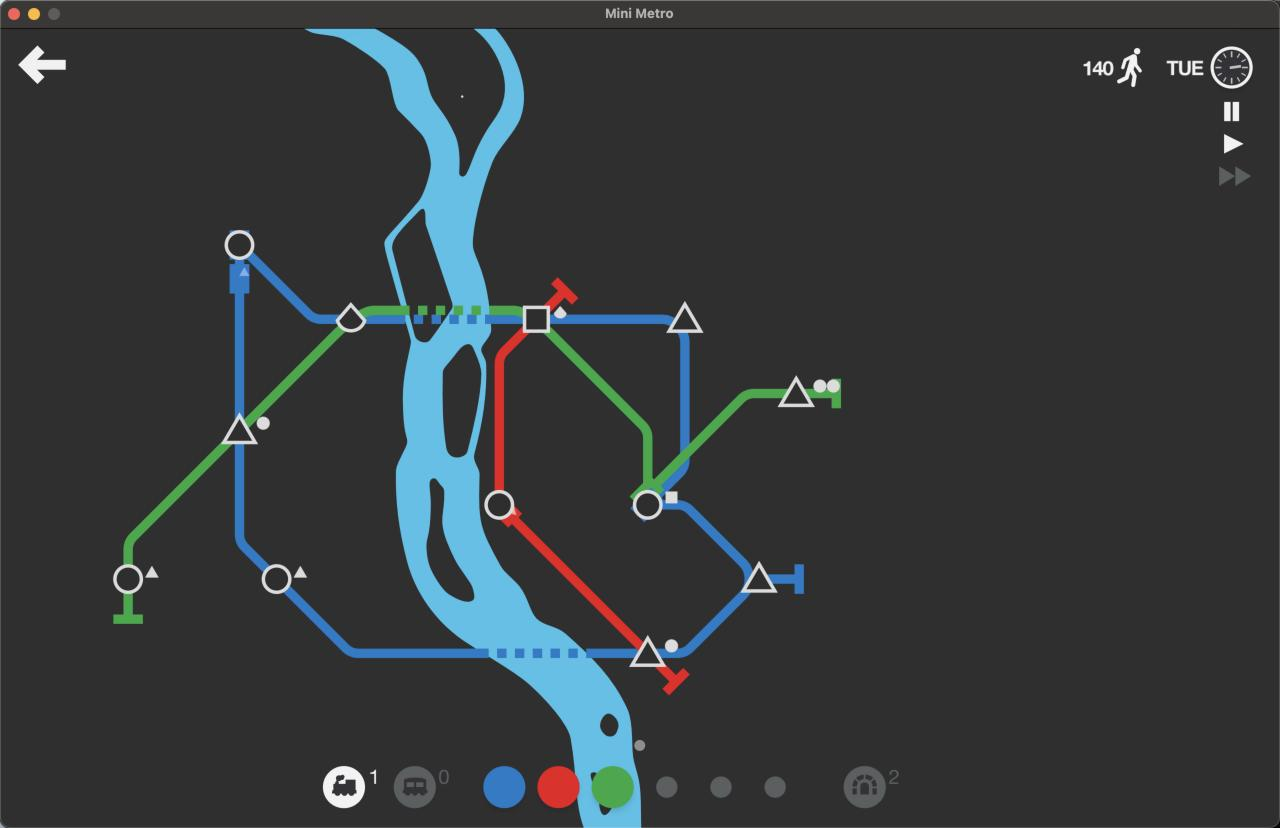CIRCLE: (483, 489, 517, 522), (631, 488, 664, 521), (113, 563, 145, 595), (224, 229, 255, 262), (261, 563, 292, 594)
SQUARE: (522, 305, 551, 333)
TRIANGLE: (665, 300, 705, 335), (778, 374, 815, 409), (741, 560, 779, 594), (629, 635, 667, 669), (222, 412, 259, 446)
WEDGE: (335, 302, 367, 333)
